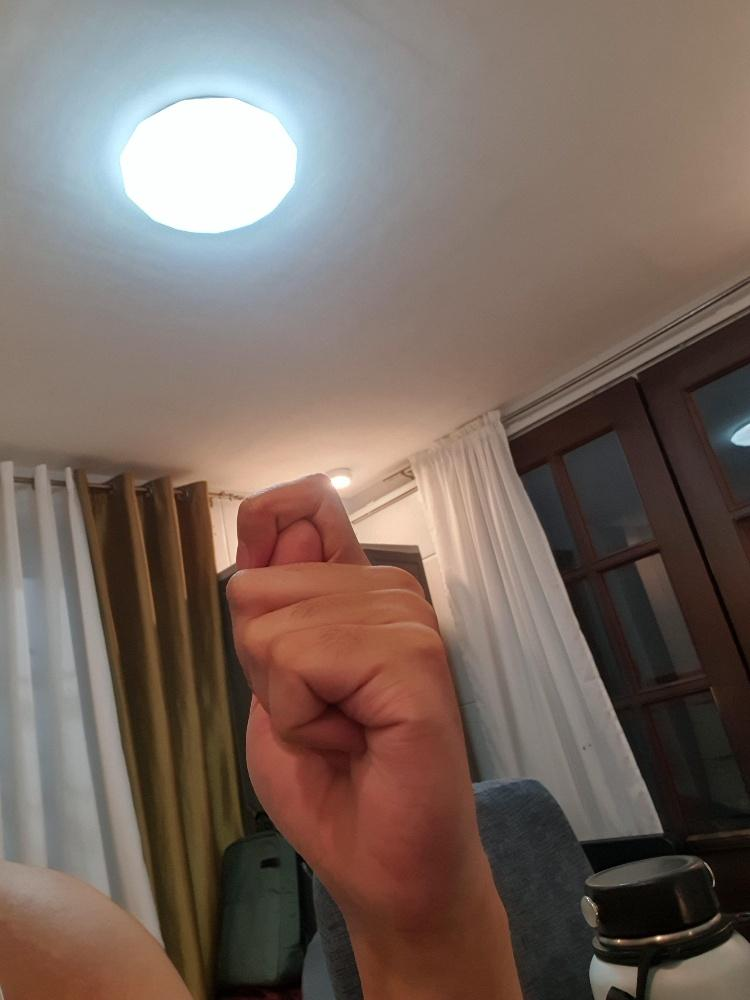t: (222, 469, 487, 934)
